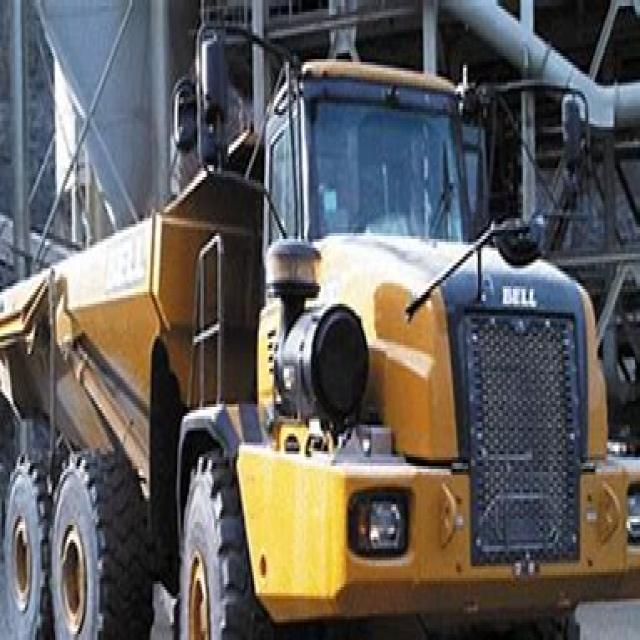dump_truck: (9, 32, 634, 626)
